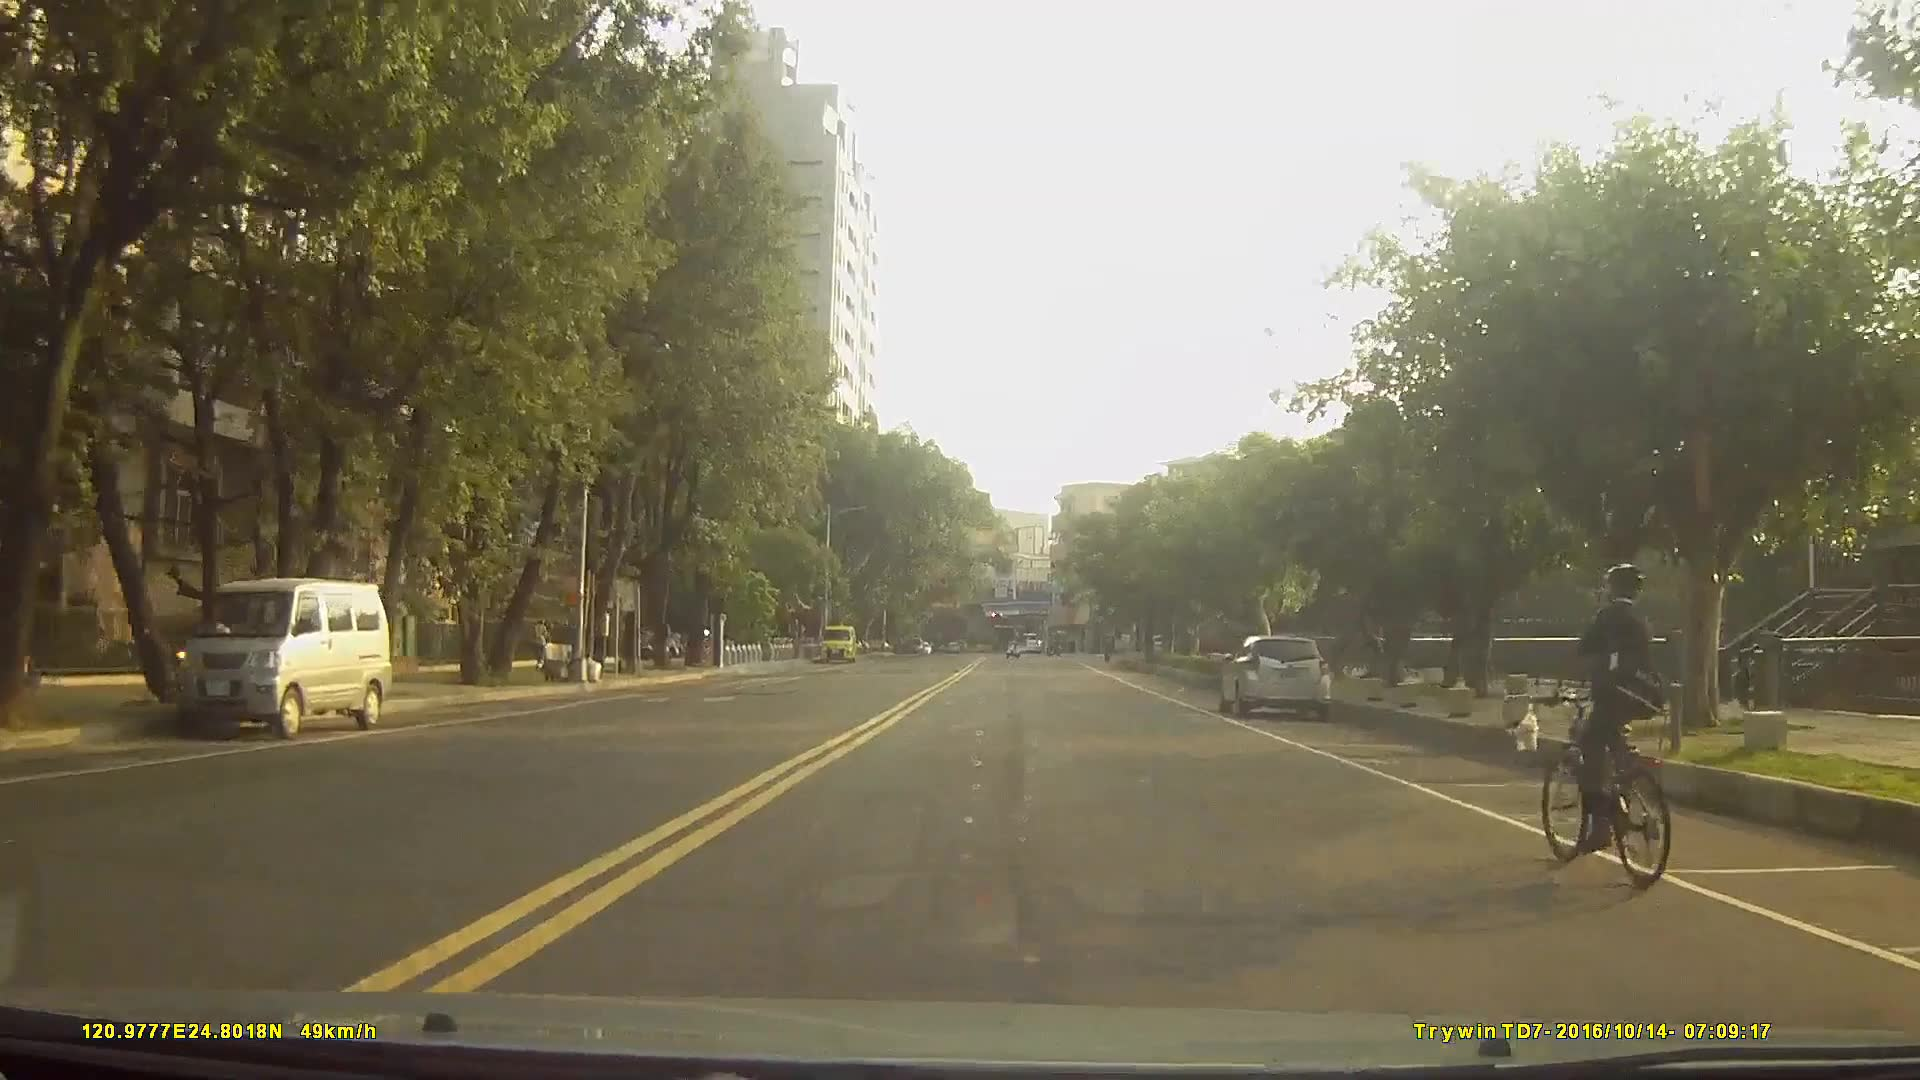rider: (1538, 558, 1680, 896)
vehicle: (167, 574, 396, 740), (1218, 627, 1335, 715), (1017, 630, 1044, 655)
